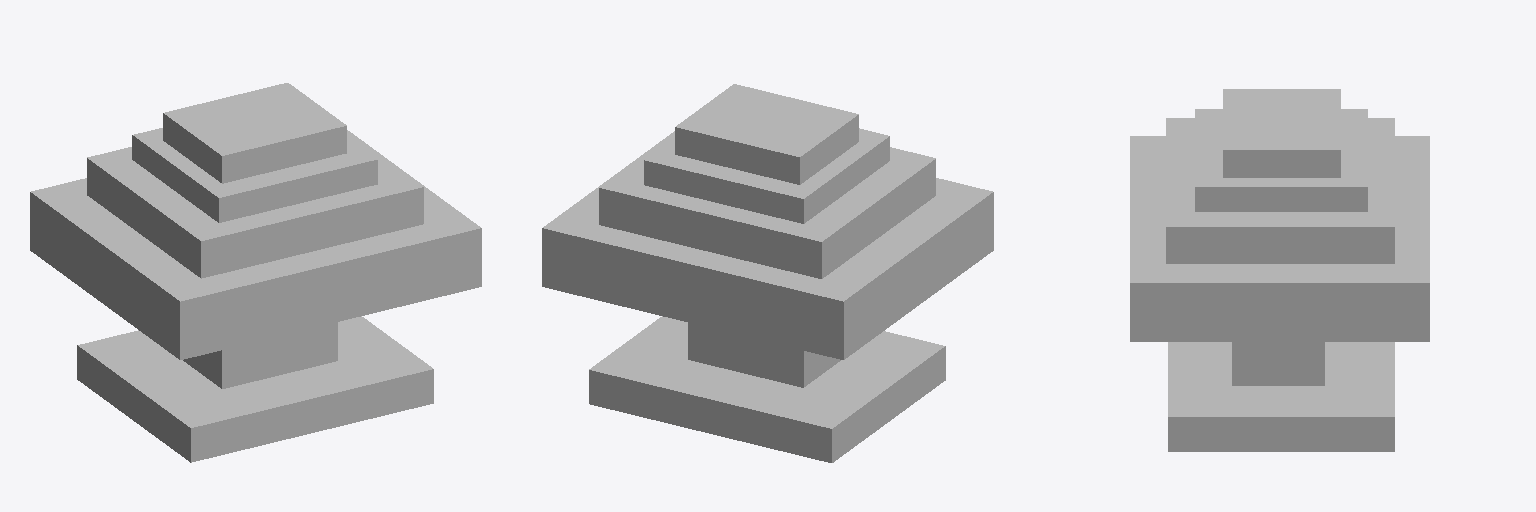
The model's file is FM_lamp.obj.
3 views of the same model, side by side, from view 1: azimuth 30°, elevation 25°; view 2: azimuth 150°, elevation 25°; view 3: azimuth 270°, elevation 25° (orthographic).
Visible parts, largest first — view 1: nodebox3, nodebox1, nodebox4, nodebox6, nodebox5, nodebox2; view 2: nodebox3, nodebox1, nodebox4, nodebox6, nodebox5, nodebox2; view 3: nodebox3, nodebox1, nodebox4, nodebox6, nodebox5, nodebox2.
Boxes of the visible parts, box(x1,y1,x2,y2) form: nodebox3: box(30, 130, 481, 359); nodebox1: box(77, 316, 433, 462); nodebox4: box(87, 131, 423, 278); nodebox6: box(163, 83, 346, 183); nodebox5: box(132, 128, 377, 222); nodebox2: box(183, 322, 337, 388); nodebox3: box(542, 131, 993, 359); nodebox1: box(589, 316, 945, 462); nodebox4: box(599, 132, 935, 278); nodebox6: box(675, 84, 858, 184); nodebox5: box(644, 128, 889, 223); nodebox2: box(688, 323, 840, 387); nodebox3: box(1130, 136, 1429, 341); nodebox1: box(1168, 342, 1394, 451); nodebox4: box(1166, 118, 1394, 263); nodebox6: box(1223, 89, 1340, 177); nodebox5: box(1195, 109, 1367, 211); nodebox2: box(1232, 342, 1324, 385).
Size of the model in its own units: 0.8235 by 0.7101 by 0.7103.